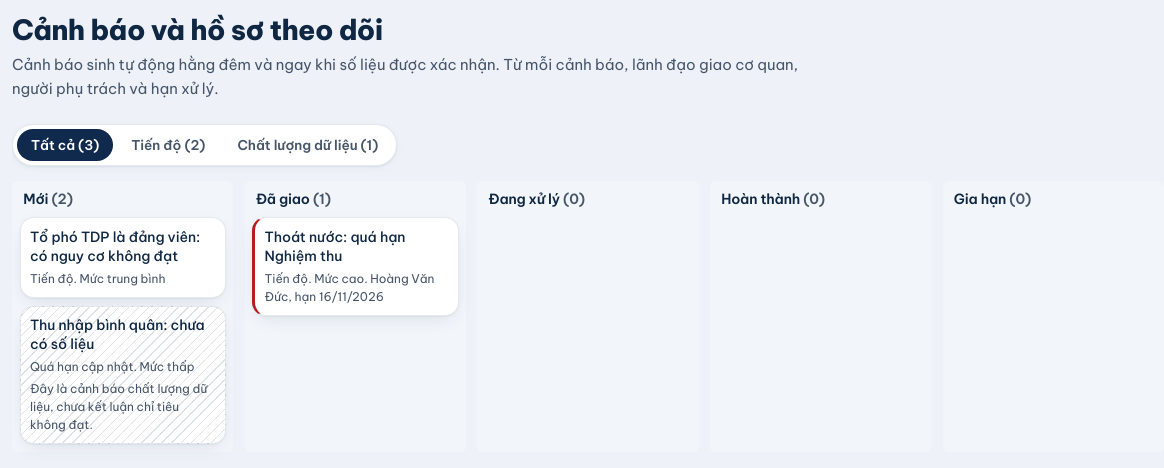
Cảnh báo và hồ sơ theo dõi › 5 cột trạng thái và tách cảnh báo chất lượng dữ liệu
Expected: the element "Mới" is shown, x1=12 y1=181 x2=233 y2=452
Expected: the element "Đã giao" is shown, x1=245 y1=181 x2=466 y2=452
Click the tab "Chất lượng dữ liệu (1)" at (308, 145), box x1=223 y1=129 x2=392 y2=161
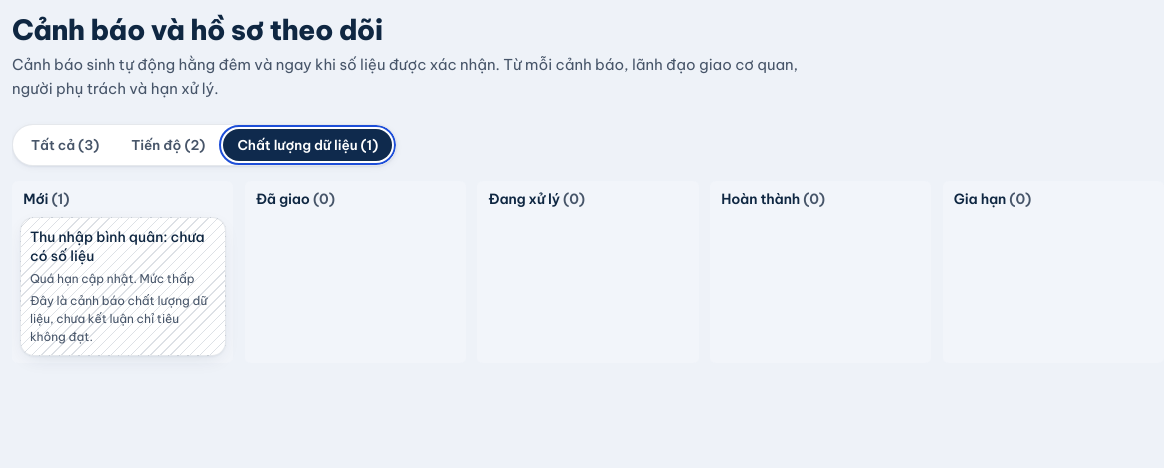
Expected: the text "Thu nhập bình quân: chưa có số liệu" is shown, x1=30 y1=228 x2=216 y2=266
Now the button "Tổ phó TDP" is gone
